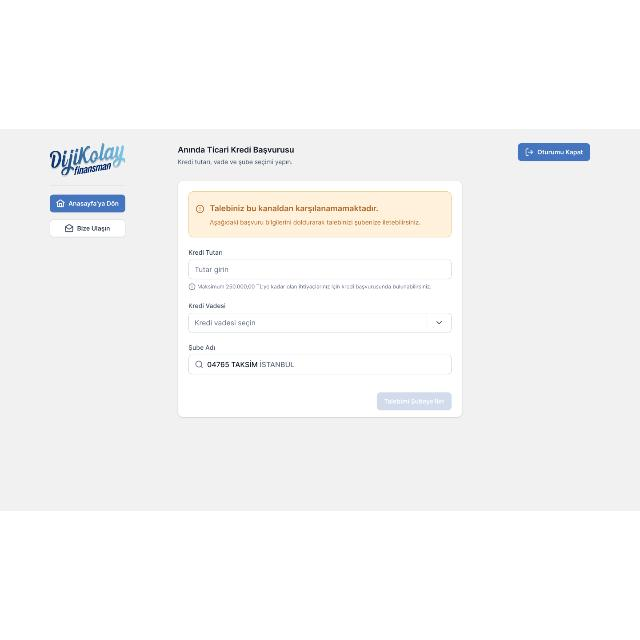QLabel: (210, 218, 422, 226), (210, 204, 380, 213), (176, 144, 296, 156), (197, 284, 431, 290), (176, 160, 294, 167), (382, 396, 446, 406), (68, 200, 120, 208), (186, 249, 228, 257), (188, 302, 226, 310), (76, 225, 112, 233), (537, 150, 583, 156), (188, 343, 216, 351)
VAlert: (188, 190, 452, 238)
VBtn: (378, 392, 452, 412), (48, 194, 125, 212), (516, 143, 592, 161), (51, 220, 126, 238)
VCard: (178, 180, 462, 418)
VCombobox: (188, 313, 452, 333)
VDivider: (178, 384, 462, 386)
VIcon: (55, 199, 65, 209), (64, 224, 74, 234), (196, 204, 204, 213), (188, 283, 196, 291), (526, 148, 532, 156)
VImg: (46, 142, 126, 178)
VTextField: (188, 259, 452, 279), (188, 354, 452, 374)
